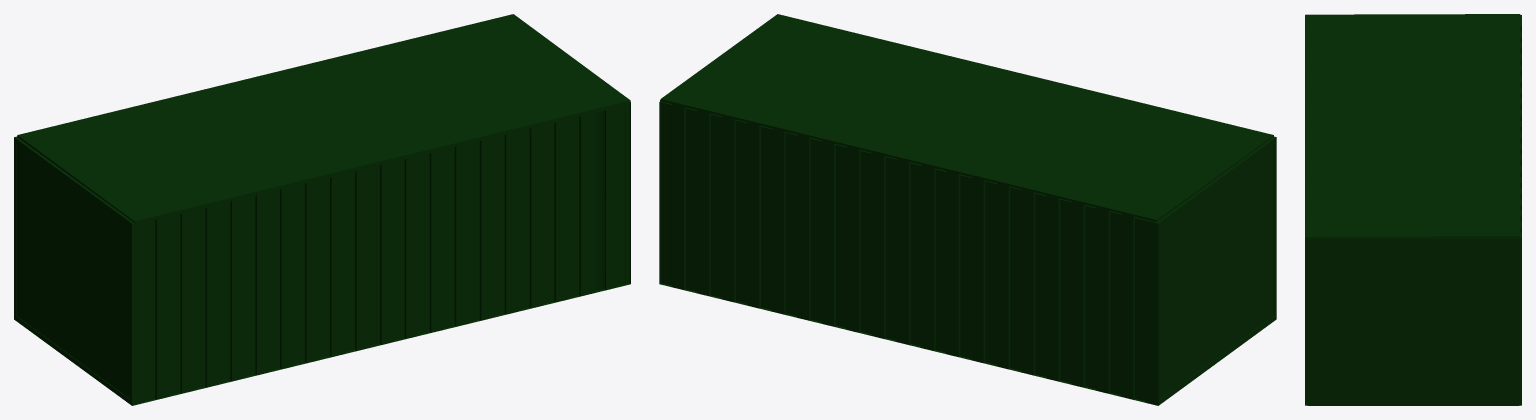
The model's file is container-close-green.FBX.
3 views of the same model, side by side, from view 1: azimuth 30°, elevation 25°; view 2: azimuth 150°, elevation 25°; view 3: azimuth 270°, elevation 25° (orthographic). The views are drawn at different scales.
Visible parts, largest first — view 1: Box002, Box010, Box011, Box009; view 2: Box002, Box010, Box011, Box009; view 3: Box010, Box009, Box002.
Part boxes in pixels (<box>): Box002: <box>14,102,630,405</box>; Box010: <box>17,14,630,222</box>; Box011: <box>16,144,129,398</box>; Box009: <box>625,104,629,283</box>; Box002: <box>659,101,1276,405</box>; Box010: <box>660,14,1273,222</box>; Box011: <box>1160,144,1273,398</box>; Box009: <box>660,100,665,283</box>; Box010: <box>1305,14,1520,238</box>; Box009: <box>1307,237,1519,405</box>; Box002: <box>1305,15,1521,405</box>.
Bounding box in the file's own units: 115 × 40.74 × 47.26.
